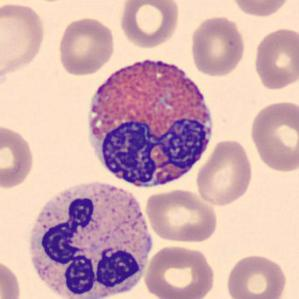Eosinophil: (78, 47, 220, 195)
Neutrophil: (21, 174, 158, 299)
RBC: (193, 137, 255, 208), (144, 187, 219, 244), (143, 243, 217, 299), (187, 14, 248, 78), (248, 98, 298, 174), (56, 15, 117, 77), (0, 0, 47, 80), (117, 0, 182, 50), (223, 251, 290, 299), (251, 25, 298, 92), (0, 122, 36, 189), (228, 0, 293, 18), (0, 257, 23, 299)
